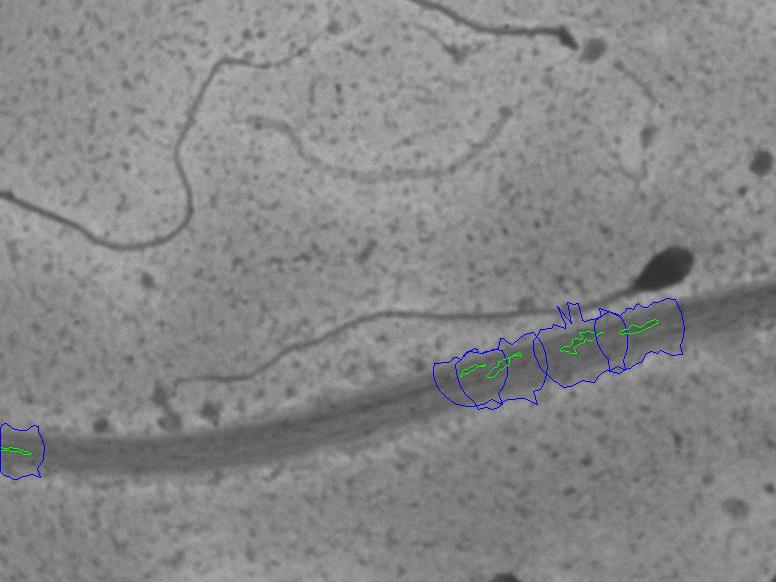Normal: (163, 234, 702, 396)
